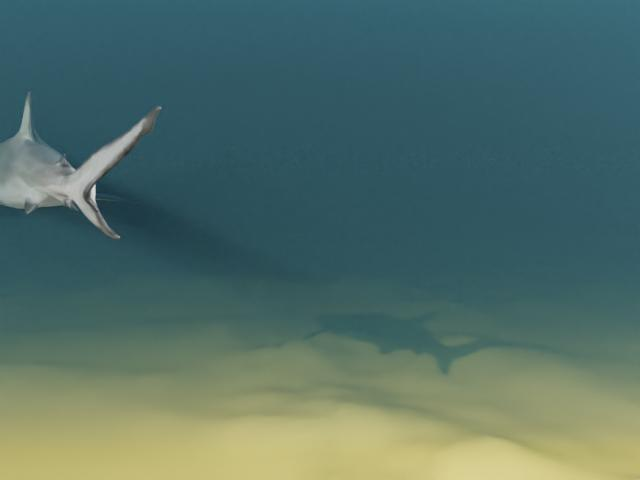Carribean Shark.001: (0, 91, 161, 239)
